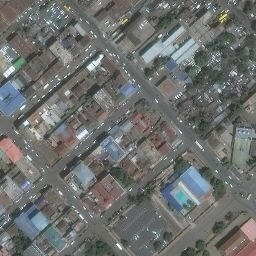tree: (194, 50, 209, 66), (174, 159, 188, 174), (212, 222, 227, 234), (153, 57, 166, 69), (109, 166, 121, 178), (185, 66, 199, 76), (199, 167, 211, 178), (163, 232, 173, 242), (224, 211, 234, 221), (153, 241, 162, 251), (119, 238, 129, 247), (199, 122, 210, 130), (196, 240, 204, 250), (145, 69, 153, 76)
